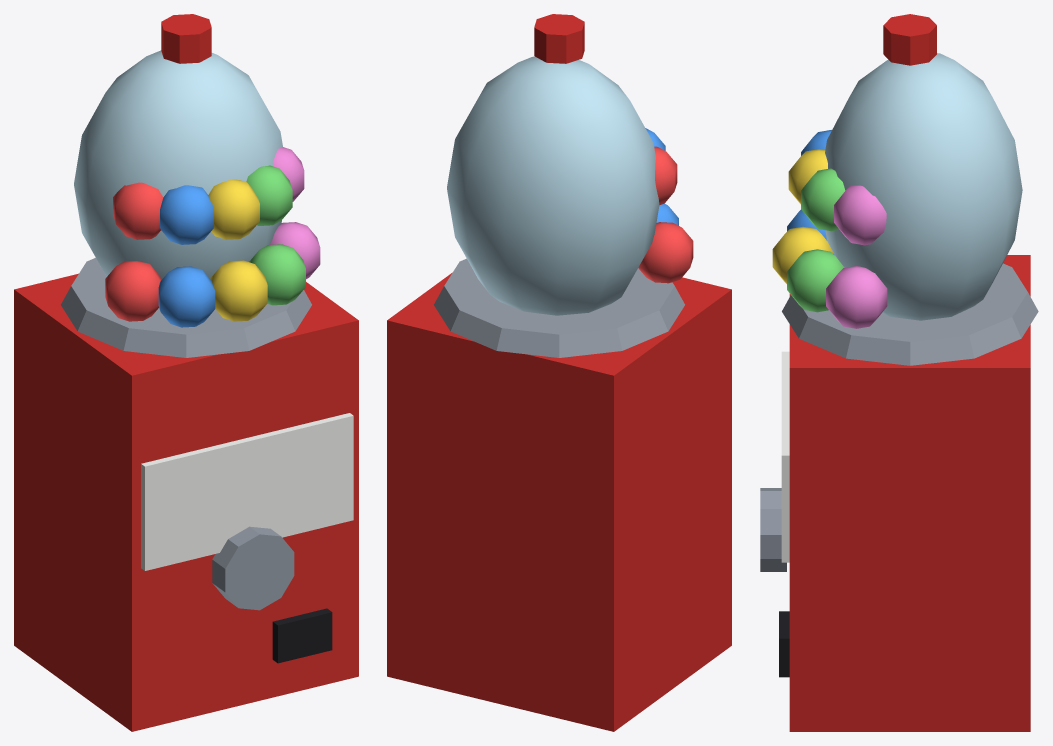
The model's file is p_gacha.glb.
The picture shows the model from 3 angles, left to right: view 1: azimuth 30°, elevation 25°; view 2: azimuth 150°, elevation 25°; view 3: azimuth 270°, elevation 25°; orthographic projection. The views are drawn at different scales.
Parts seen in each view (by area): view 1: gacha; view 2: gacha; view 3: gacha.
Part boxes in pixels (box(x1,y1,x2,y2)): gacha: box(14, 14, 358, 731); gacha: box(387, 14, 731, 731); gacha: box(760, 14, 1038, 731).
Size of the model in its own units: 0.5 by 1.34 by 0.52.
